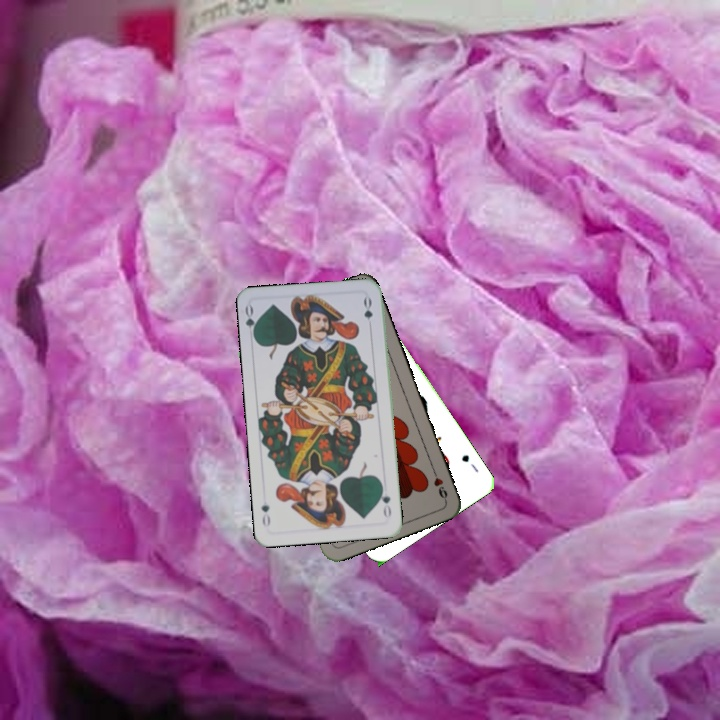GO: (241, 302, 261, 342), (376, 481, 394, 521)
GU: (458, 450, 481, 475)
H9: (428, 464, 450, 503)
